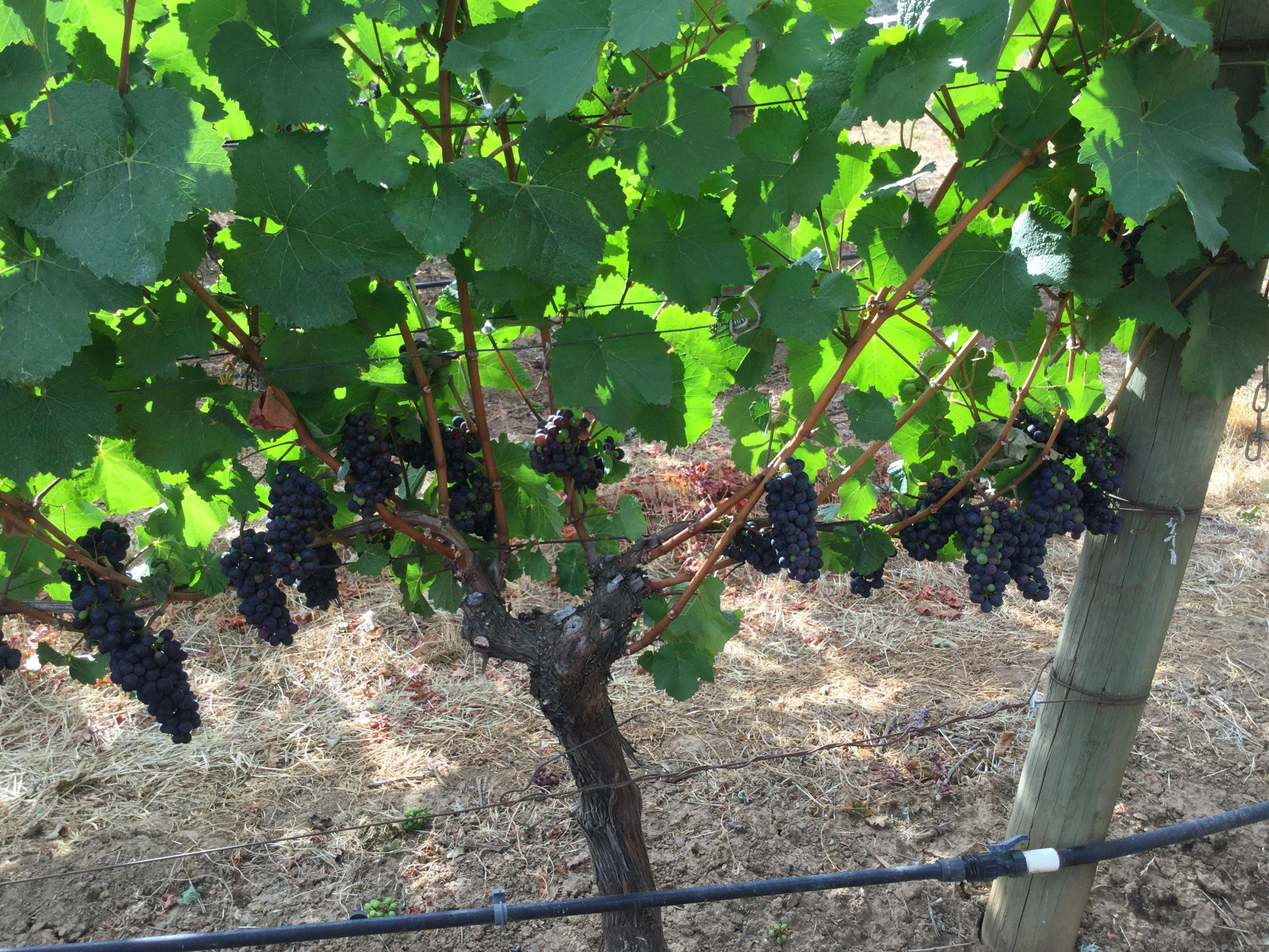leaf: (0, 82, 234, 283), (224, 133, 418, 327), (1071, 48, 1252, 250), (451, 123, 625, 283), (0, 219, 142, 382), (208, 0, 352, 130), (612, 78, 741, 198), (480, 0, 610, 119), (629, 198, 750, 309), (0, 366, 114, 482), (731, 109, 837, 233), (124, 369, 251, 472), (932, 226, 1039, 340), (551, 307, 672, 406), (850, 22, 955, 124), (1179, 288, 1268, 402), (116, 284, 212, 378), (848, 195, 937, 286), (386, 162, 472, 255), (327, 107, 426, 187), (806, 22, 878, 131), (634, 353, 714, 449), (762, 264, 858, 343), (919, 0, 1010, 83), (261, 324, 366, 392), (746, 11, 829, 86), (662, 578, 741, 655), (1001, 69, 1073, 148), (1100, 273, 1187, 338), (0, 38, 68, 114), (1136, 197, 1200, 277), (175, 0, 248, 68), (1010, 206, 1071, 286), (1220, 165, 1268, 262), (638, 640, 713, 700), (610, 0, 694, 52), (1064, 232, 1124, 303), (861, 146, 936, 198), (1133, 0, 1213, 47), (821, 525, 895, 574), (843, 387, 895, 441), (358, 0, 437, 29), (641, 599, 668, 625), (927, 264, 937, 275), (860, 63, 864, 70), (1260, 112, 1268, 115), (601, 415, 608, 418), (266, 335, 271, 338), (1266, 128, 1268, 131), (645, 602, 647, 604), (762, 24, 764, 26), (180, 467, 183, 468), (781, 14, 782, 16), (283, 384, 284, 385), (989, 123, 989, 128), (768, 8, 772, 8)
